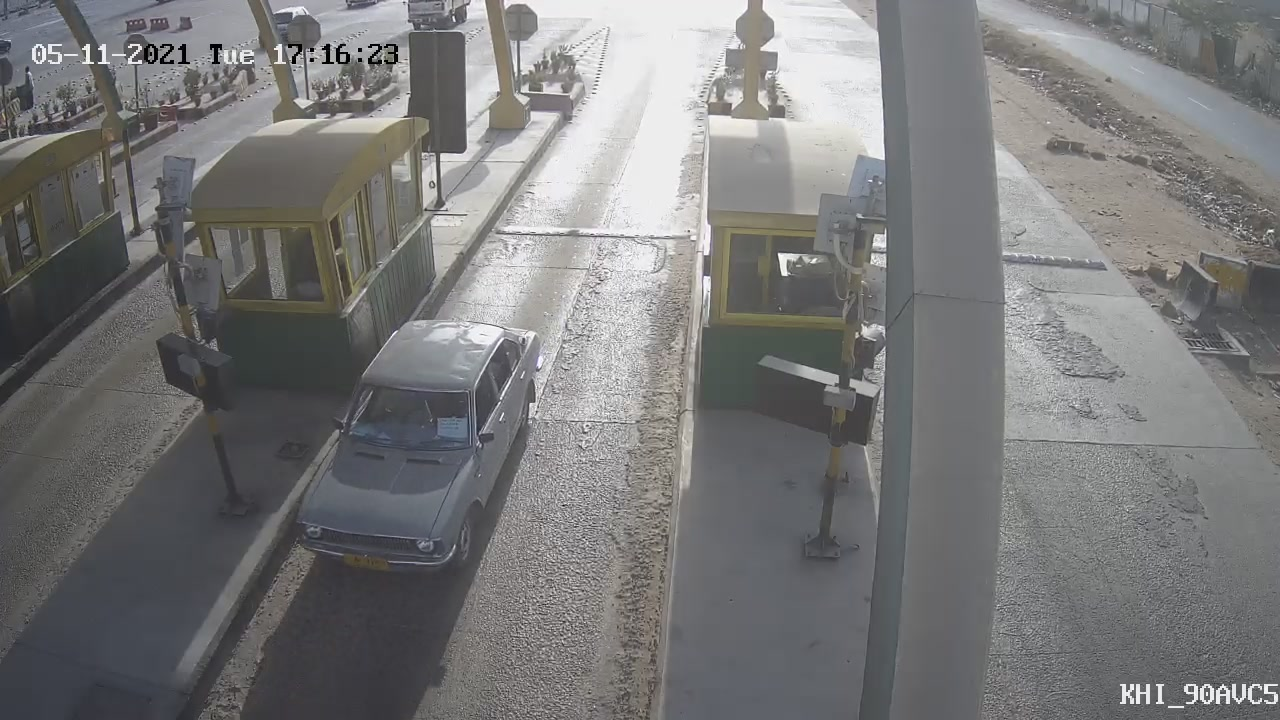F1: (264, 296, 564, 601)
